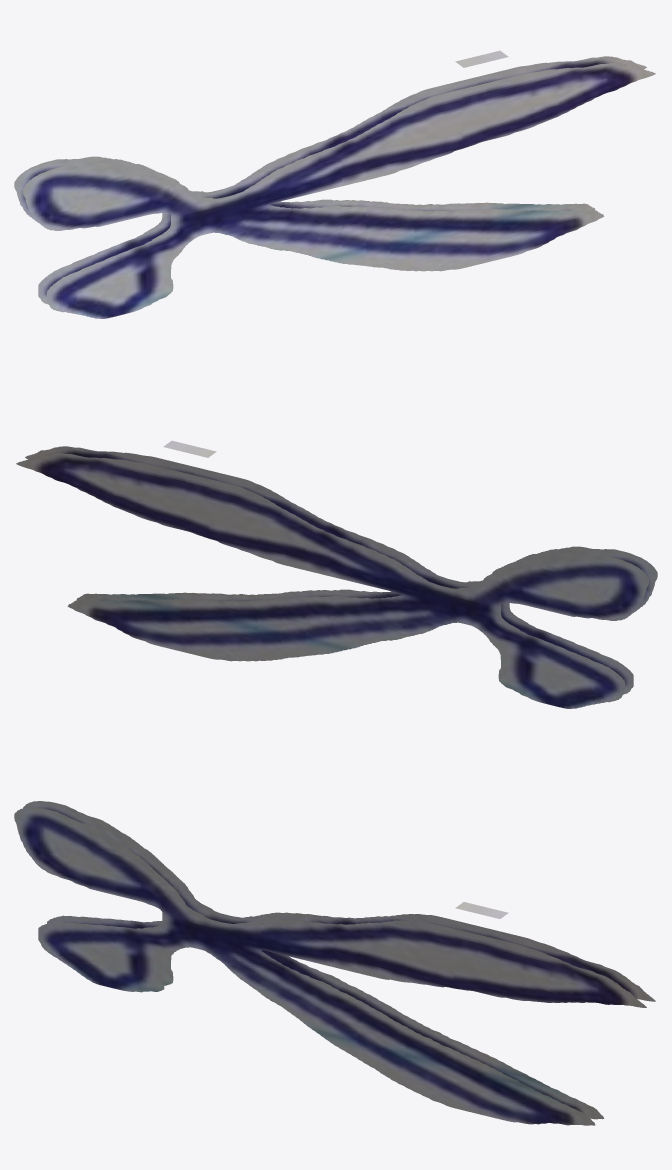
Rendered from Schaar.fbx.
3 views of the same model, one above another, from view 1: azimuth 30°, elevation 25°; view 2: azimuth 150°, elevation 25°; view 3: azimuth 330°, elevation 25° (orthographic).
Parts seen in each view (by area): view 1: Plane; view 2: Plane; view 3: Plane.
Part boxes in pixels (bbox=[...]): Plane: bbox=[14, 50, 655, 318]; Plane: bbox=[16, 440, 657, 708]; Plane: bbox=[14, 801, 655, 1125].
Size of the model in its own units: 1065 by 321 by 25.34.
Materials: 1 (1 with a texture image).
